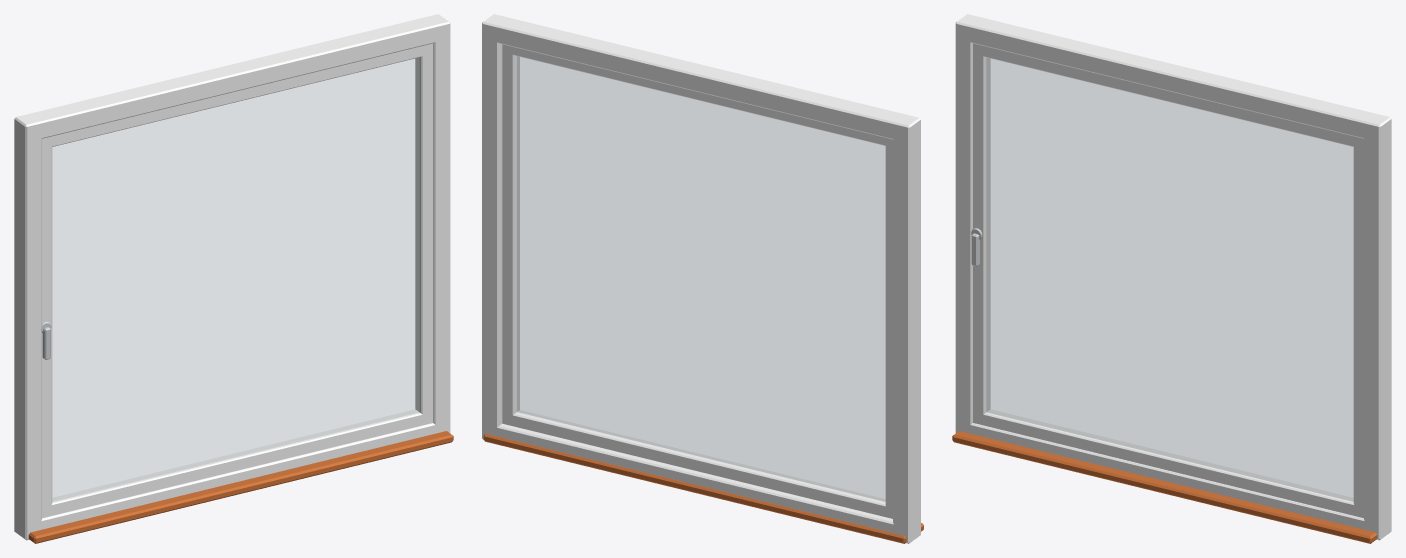
File: window-1500x1400.glb
3 views of the same model, side by side, from view 1: azimuth 30°, elevation 25°; view 2: azimuth 150°, elevation 25°; view 3: azimuth 330°, elevation 25° (orthographic).
Visible parts, largest first — view 1: window-1500x1400.glass, window-1500x1400.tint, window-1500x1400.accent; view 2: window-1500x1400.glass, window-1500x1400.tint, window-1500x1400.accent; view 3: window-1500x1400.glass, window-1500x1400.tint, window-1500x1400.accent.
Part boxes in pixels (x1=…): window-1500x1400.glass: x1=52, y1=58, x2=419, y2=501; window-1500x1400.tint: x1=14, y1=14, x2=450, y2=540; window-1500x1400.accent: x1=28, y1=431, x2=453, y2=543; window-1500x1400.glass: x1=517, y1=56, x2=885, y2=501; window-1500x1400.tint: x1=482, y1=14, x2=920, y2=543; window-1500x1400.accent: x1=483, y1=434, x2=923, y2=543; window-1500x1400.glass: x1=986, y1=58, x2=1353, y2=501; window-1500x1400.tint: x1=955, y1=14, x2=1391, y2=540; window-1500x1400.accent: x1=952, y1=431, x2=1377, y2=543.
Size of the model in its own units: 1.5 by 1.4 by 0.12.
